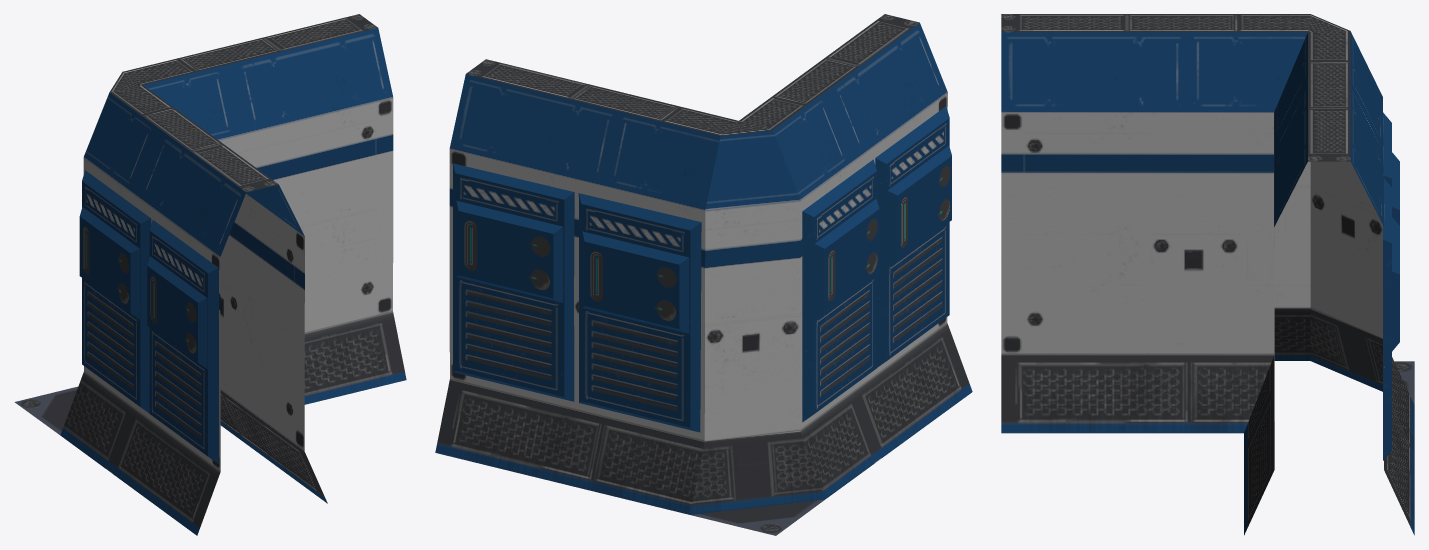
Rendered from Wall_angle_7_Sci_Fi.fbx.
3 views of the same model, side by side, from view 1: azimuth 30°, elevation 25°; view 2: azimuth 150°, elevation 25°; view 3: azimuth 270°, elevation 25° (orthographic). The views are drawn at different scales.
Visible parts, largest first — view 1: Wall_angle_7_Sci_Fi; view 2: Wall_angle_7_Sci_Fi; view 3: Wall_angle_7_Sci_Fi.
Part boxes in pixels (x1,y1,x2,y2): Wall_angle_7_Sci_Fi: (14, 14, 406, 535); Wall_angle_7_Sci_Fi: (435, 14, 972, 535); Wall_angle_7_Sci_Fi: (1001, 14, 1414, 535).
Size of the model in its own units: 395 by 395 by 395.
